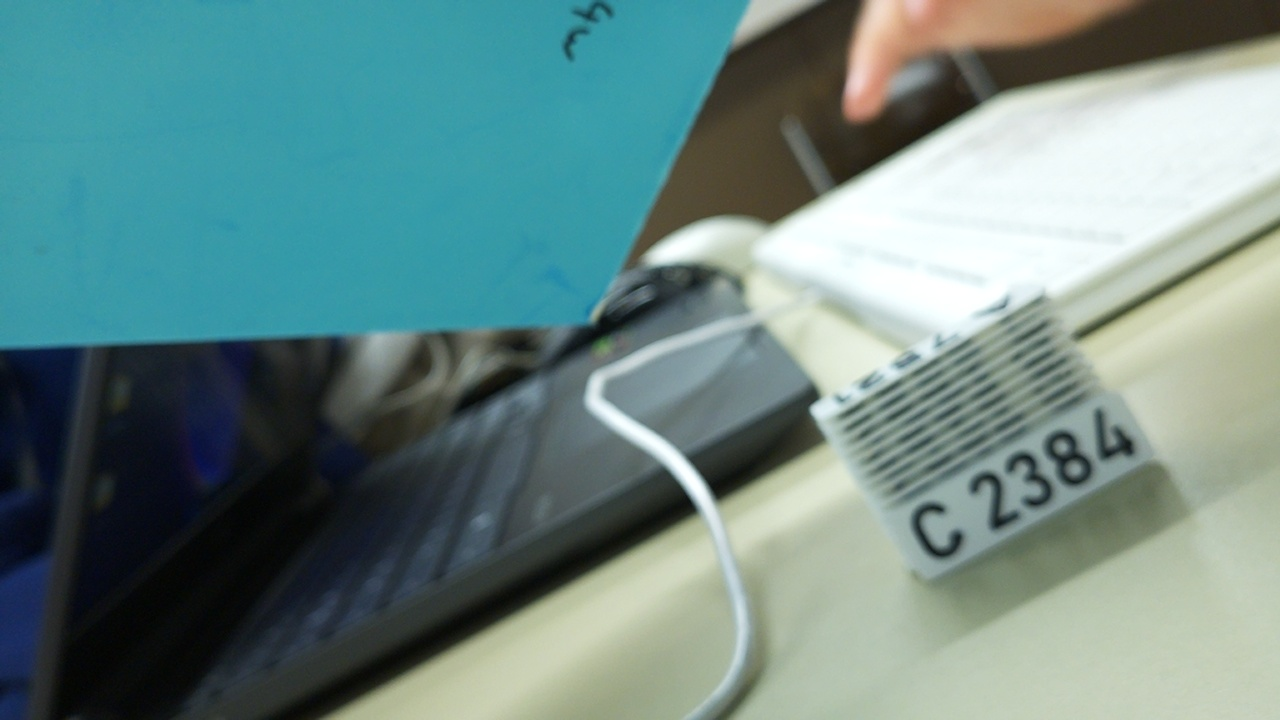license_plate: (881, 387, 1156, 586), (775, 280, 1058, 422)
